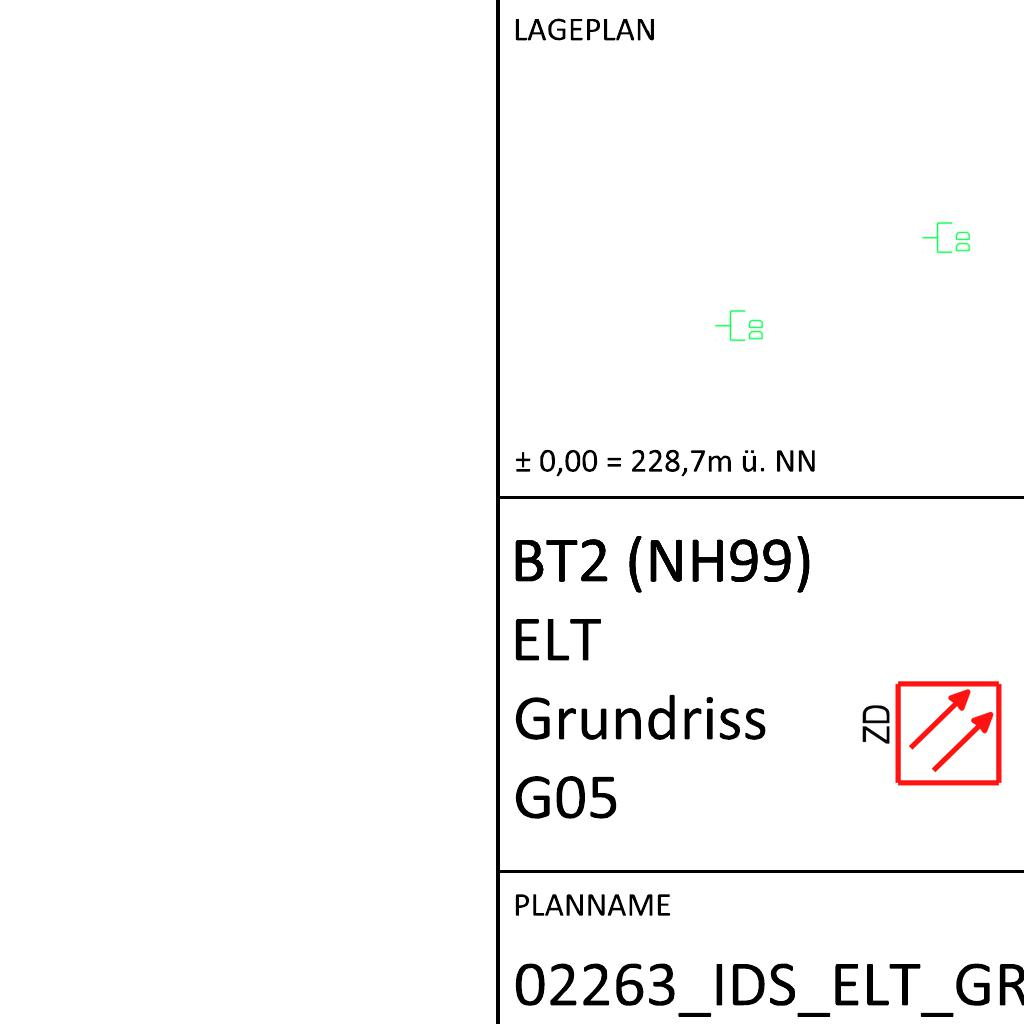Datenanschluss_zweifach: (921, 221, 972, 255), (714, 309, 765, 343)
ZD_Melder_in_Zwischendecke_mit_Revisionsoeffnung_mind_40_x_40_cm: (855, 678, 1004, 792)
